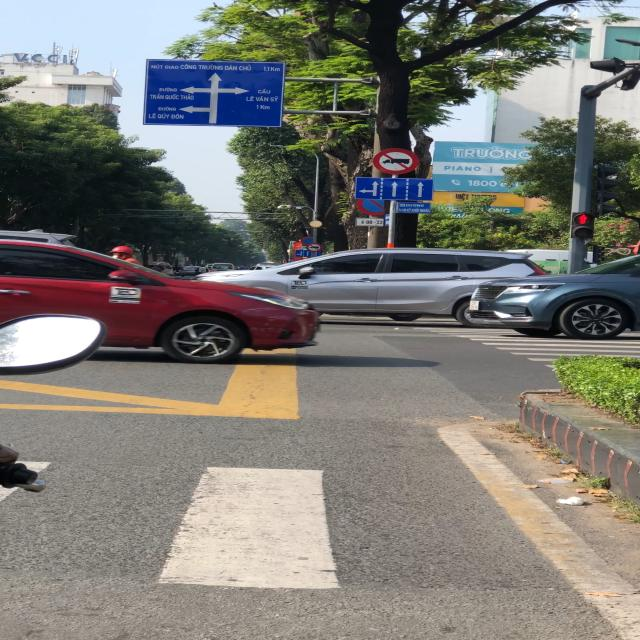Bien bao cam xe so-mi ro-mooc: (369, 146, 423, 177), (304, 242, 323, 254)
